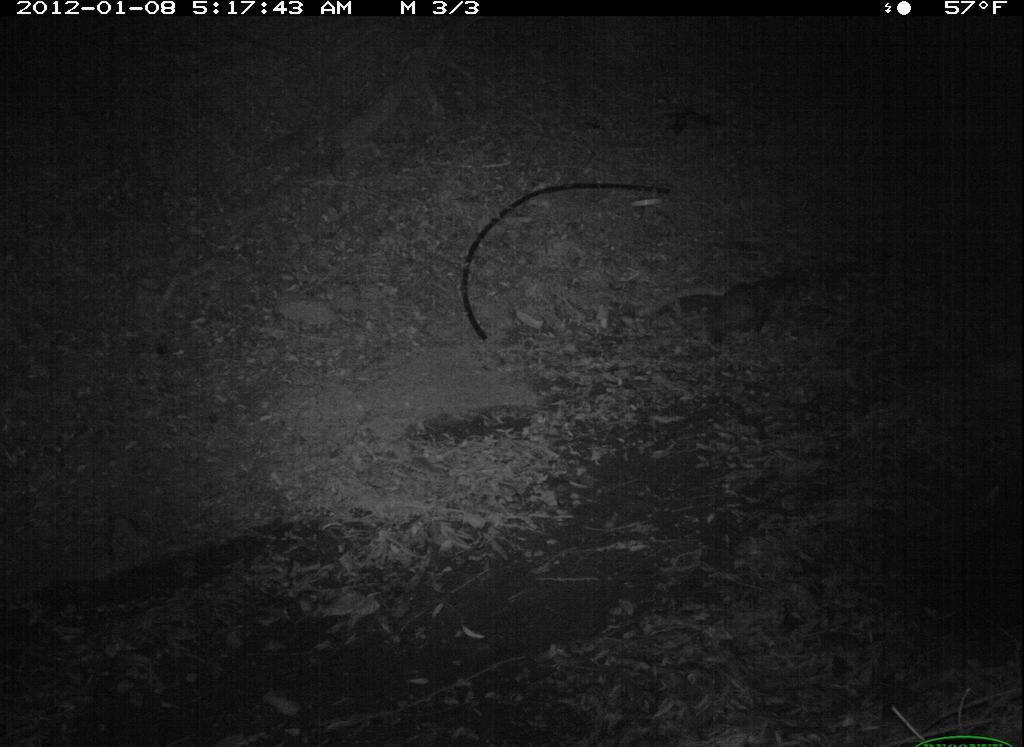opossum: (697, 257, 801, 381)
